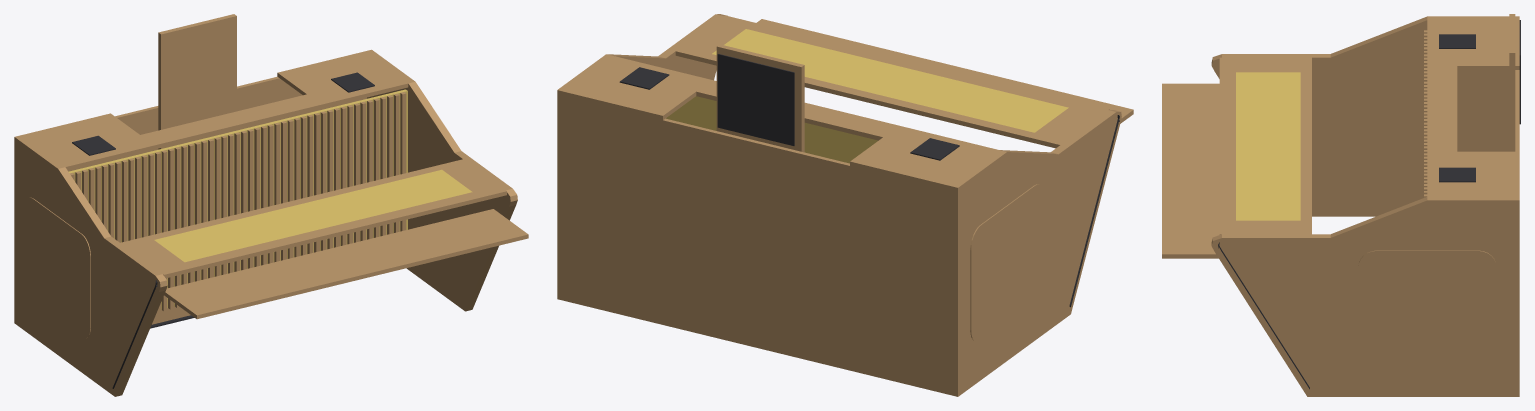
File: Mesa_util_diseno.dae
3 renders of one model, left to right at view 1: azimuth 30°, elevation 25°; view 2: azimuth 150°, elevation 25°; view 3: azimuth 270°, elevation 25°, orthographic. The views are drawn at different scales.
Parts seen in each view (by area): view 1: Puente - listones, Lateral en ala izquierdo, Bandeja teclado, Balda - lana bajo la retícula, Lateral en ala derecho, Puente - aleta de la pantalla, Lateral izquierdo - panel de nogal, Puente - frente de tela, Puente - tablero delantero, Balda - marco delantero, Puente - trasera, Puente - tablero derecho (+6 smaller); view 2: Puente - trasera, Lateral en ala izquierdo, Balda - lana bajo la retícula, Lateral izquierdo - panel de nogal, LED aleta, Puente - tablero delantero, Lateral en ala derecho, Puente - tablero derecho, Balda - marco delantero, Puente - tablero izquierdo, Balda - marco trasero, Puente - frente de tela (+6 smaller); view 3: Lateral en ala derecho, Lateral en ala izquierdo, Lateral derecho - panel de nogal, Bandeja teclado, Balda - lana bajo la retícula, Puente - tablero delantero, Balda - marco delantero, Puente - tablero izquierdo, Puente - tablero derecho, Balda - marco trasero, Balda - lado izquierdo, Balda - lado derecho (+5 smaller).
Boxes of the visible parts, x1,y1,x2,y2 form: Puente - listones: (69,92,406,312); Lateral en ala izquierdo: (14,135,167,396); Bandeja teclado: (164,209,528,319); Balda - lana bajo la retícula: (154,169,472,262); Lateral en ala derecho: (365,49,517,311); Puente - aleta de la pantalla: (158,14,236,149); Lateral izquierdo - panel de nogal: (24,197,90,338); Puente - frente de tela: (68,89,407,309); Puente - tablero delantero: (51,73,408,170); Balda - marco delantero: (156,185,506,278); Puente - trasera: (68,76,366,171); Puente - tablero derecho: (277,51,393,95); Puente - trasera: (565,96,949,394); Lateral en ala izquierdo: (950,110,1121,396); Balda - lana bajo la retícula: (712,29,1068,132); Lateral izquierdo - panel de nogal: (970,184,1044,342); LED aleta: (717,54,794,145); Puente - tablero delantero: (598,56,998,161); Lateral en ala derecho: (557,14,727,300); Puente - tablero derecho: (565,68,696,120); Balda - marco delantero: (716,15,1109,115); Puente - tablero izquierdo: (850,137,982,190); Balda - marco trasero: (675,47,1065,148); Puente - frente de tela: (666,96,877,163); Lateral en ala derecho: (1211,196,1519,396); Lateral en ala izquierdo: (1211,16,1519,216); Lateral derecho - panel de nogal: (1358,250,1496,359); Bandeja teclado: (1162,83,1219,258); Balda - lana bajo la retícula: (1236,72,1300,220); Puente - tablero delantero: (1427,20,1457,196); Balda - marco delantero: (1219,57,1235,234); Puente - tablero izquierdo: (1457,20,1519,69); Puente - tablero derecho: (1457,151,1519,196); Balda - marco trasero: (1300,57,1311,234); Balda - lado izquierdo: (1236,57,1300,72); Balda - lado derecho: (1236,220,1300,234).
Bounding box in the file's own units: 74.72 × 61.22 × 51.18.
